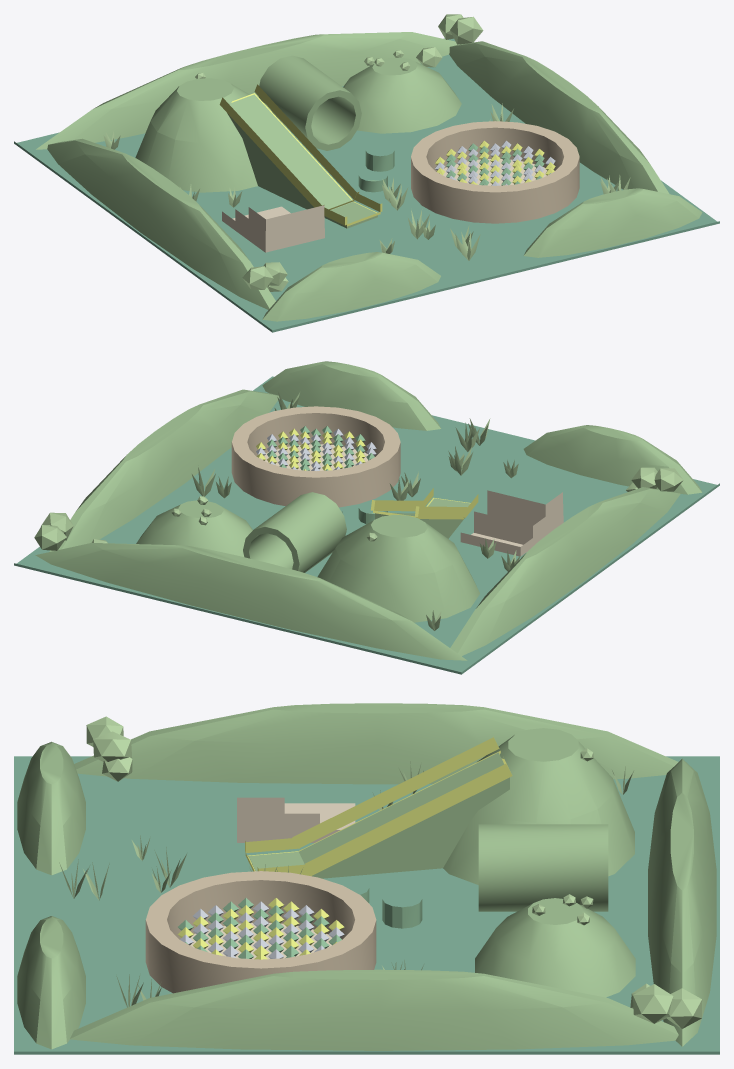
The picture shows the model from 3 angles, top to bottom: view 1: azimuth 30°, elevation 25°; view 2: azimuth 150°, elevation 25°; view 3: azimuth 270°, elevation 25°; orthographic projection. The views are drawn at different scales.
Visible parts, largest first — view 1: Terrain, Safety_Pad, Pit_Rim, Foam_Steps, Mini_Slide, Foliage, Grass_Tufts, Pit_Balls_Ball, Pit_Balls_White, Pit_Balls_Leaf, Stepping_Pods, Pit_Bed; view 2: Terrain, Safety_Pad, Pit_Rim, Foam_Steps, Grass_Tufts, Foliage, Mini_Slide, Pit_Balls_Leaf, Pit_Balls_Ball, Pit_Balls_White, Pit_Bed; view 3: Terrain, Safety_Pad, Pit_Rim, Mini_Slide, Foliage, Foam_Steps, Pit_Balls_Ball, Pit_Balls_Leaf, Pit_Balls_White, Grass_Tufts, Stepping_Pods, Pit_Bed.
Part boxes in pixels (bbox=[...]): Terrain: bbox=[36, 32, 702, 321]; Safety_Pad: bbox=[14, 38, 719, 332]; Pit_Rim: bbox=[411, 121, 579, 223]; Foam_Steps: bbox=[222, 205, 324, 252]; Mini_Slide: bbox=[219, 84, 382, 226]; Foliage: bbox=[195, 14, 483, 291]; Grass_Tufts: bbox=[103, 103, 630, 260]; Pit_Balls_Ball: bbox=[435, 140, 555, 184]; Pit_Balls_White: bbox=[435, 140, 555, 185]; Pit_Balls_Leaf: bbox=[446, 143, 550, 185]; Stepping_Pods: bbox=[358, 151, 394, 192]; Pit_Bed: bbox=[443, 159, 547, 185]; Terrain: bbox=[35, 361, 702, 660]; Safety_Pad: bbox=[14, 376, 719, 674]; Pit_Rim: bbox=[231, 406, 400, 507]; Foam_Steps: bbox=[460, 490, 563, 556]; Grass_Tufts: bbox=[192, 392, 520, 630]; Foliage: bbox=[34, 467, 683, 550]; Mini_Slide: bbox=[370, 488, 478, 519]; Pit_Balls_Leaf: bbox=[267, 426, 374, 470]; Pit_Balls_Ball: bbox=[256, 428, 365, 470]; Pit_Balls_White: bbox=[256, 428, 376, 470]; Pit_Bed: bbox=[264, 444, 368, 470]; Terrain: bbox=[17, 703, 716, 1050]; Safety_Pad: bbox=[14, 756, 719, 1054]; Pit_Rim: bbox=[145, 871, 376, 993]; Mini_Slide: bbox=[245, 736, 512, 876]; Foliage: bbox=[86, 716, 702, 1028]; Foam_Steps: bbox=[237, 797, 355, 842]; Pit_Balls_Ball: bbox=[177, 898, 344, 959]; Pit_Balls_Leaf: bbox=[178, 898, 341, 958]; Pit_Balls_White: bbox=[180, 901, 344, 958]; Grass_Tufts: bbox=[59, 761, 633, 1007]; Stepping_Pods: bbox=[360, 888, 422, 928]; Pit_Bed: bbox=[190, 923, 331, 959].
Size of what is drawn, in the model's own units: 6 by 0.9818 by 6.
Materials: 9 (1 with a texture image).
